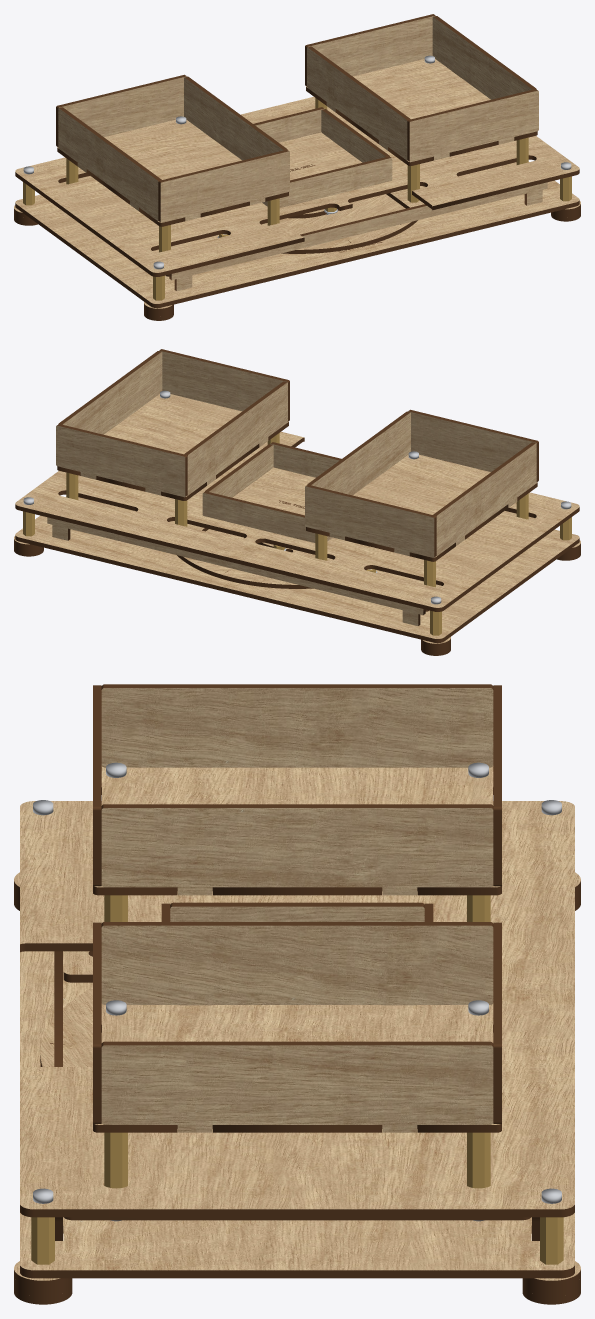
Rendered from expanse.glb.
3 renders of one model, top to bottom at view 1: azimuth 30°, elevation 25°; view 2: azimuth 150°, elevation 25°; view 3: azimuth 270°, elevation 25°, orthographic. The views are drawn at different scales.
Visible parts, largest first — view 1: body1, body0, body25, body27, body19, body18, body23, body21, body26, body24, body15, body20 (+7 smaller); view 2: body1, body0, body24, body26, body19, body18, body23, body21, body27, body25, body20, body22 (+5 smaller); view 3: body1, body0, body20, body22, body23, body21, body19, body18, body30, body28, body16, body24 (+9 smaller).
Part boxes in pixels (x1=…): body1: x1=15, y1=96, x2=579, y2=276; body0: x1=15, y1=162, x2=579, y2=308; body25: x1=407, y1=89, x2=538, y2=162; body27: x1=158, y1=149, x2=289, y2=222; body19: x1=57, y1=119, x2=288, y2=226; body18: x1=306, y1=59, x2=537, y2=165; body23: x1=58, y1=107, x2=161, y2=220; body21: x1=307, y1=46, x2=410, y2=160; body26: x1=56, y1=74, x2=186, y2=146; body24: x1=305, y1=14, x2=435, y2=86; body15: x1=169, y1=182, x2=547, y2=290; body20: x1=432, y1=16, x2=536, y2=99; body1: x1=15, y1=431, x2=579, y2=611; body0: x1=15, y1=497, x2=579, y2=643; body24: x1=56, y1=424, x2=187, y2=497; body26: x1=305, y1=484, x2=436, y2=557; body19: x1=306, y1=454, x2=537, y2=561; body18: x1=57, y1=394, x2=288, y2=500; body23: x1=433, y1=442, x2=536, y2=555; body21: x1=184, y1=381, x2=287, y2=495; body27: x1=408, y1=409, x2=538, y2=481; body25: x1=159, y1=349, x2=289, y2=421; body20: x1=58, y1=351, x2=162, y2=434; body22: x1=307, y1=411, x2=410, y2=495; body1: x1=20, y1=801, x2=574, y2=1217; body0: x1=20, y1=951, x2=574, y2=1278; body20: x1=101, y1=1041, x2=493, y2=1132; body22: x1=101, y1=804, x2=493, y2=895; body23: x1=101, y1=684, x2=493, y2=767; body21: x1=101, y1=922, x2=493, y2=1005; body19: x1=93, y1=766, x2=501, y2=895; body18: x1=93, y1=1003, x2=501, y2=1132; body30: x1=170, y1=902, x2=424, y2=921; body28: x1=40, y1=987, x2=493, y2=1066; body16: x1=64, y1=1132, x2=530, y2=1220; body24: x1=493, y1=922, x2=501, y2=1123.
Bounding box in the file's own units: 0.3346 × 0.088 × 0.194.
5 materials, 1 textured.
